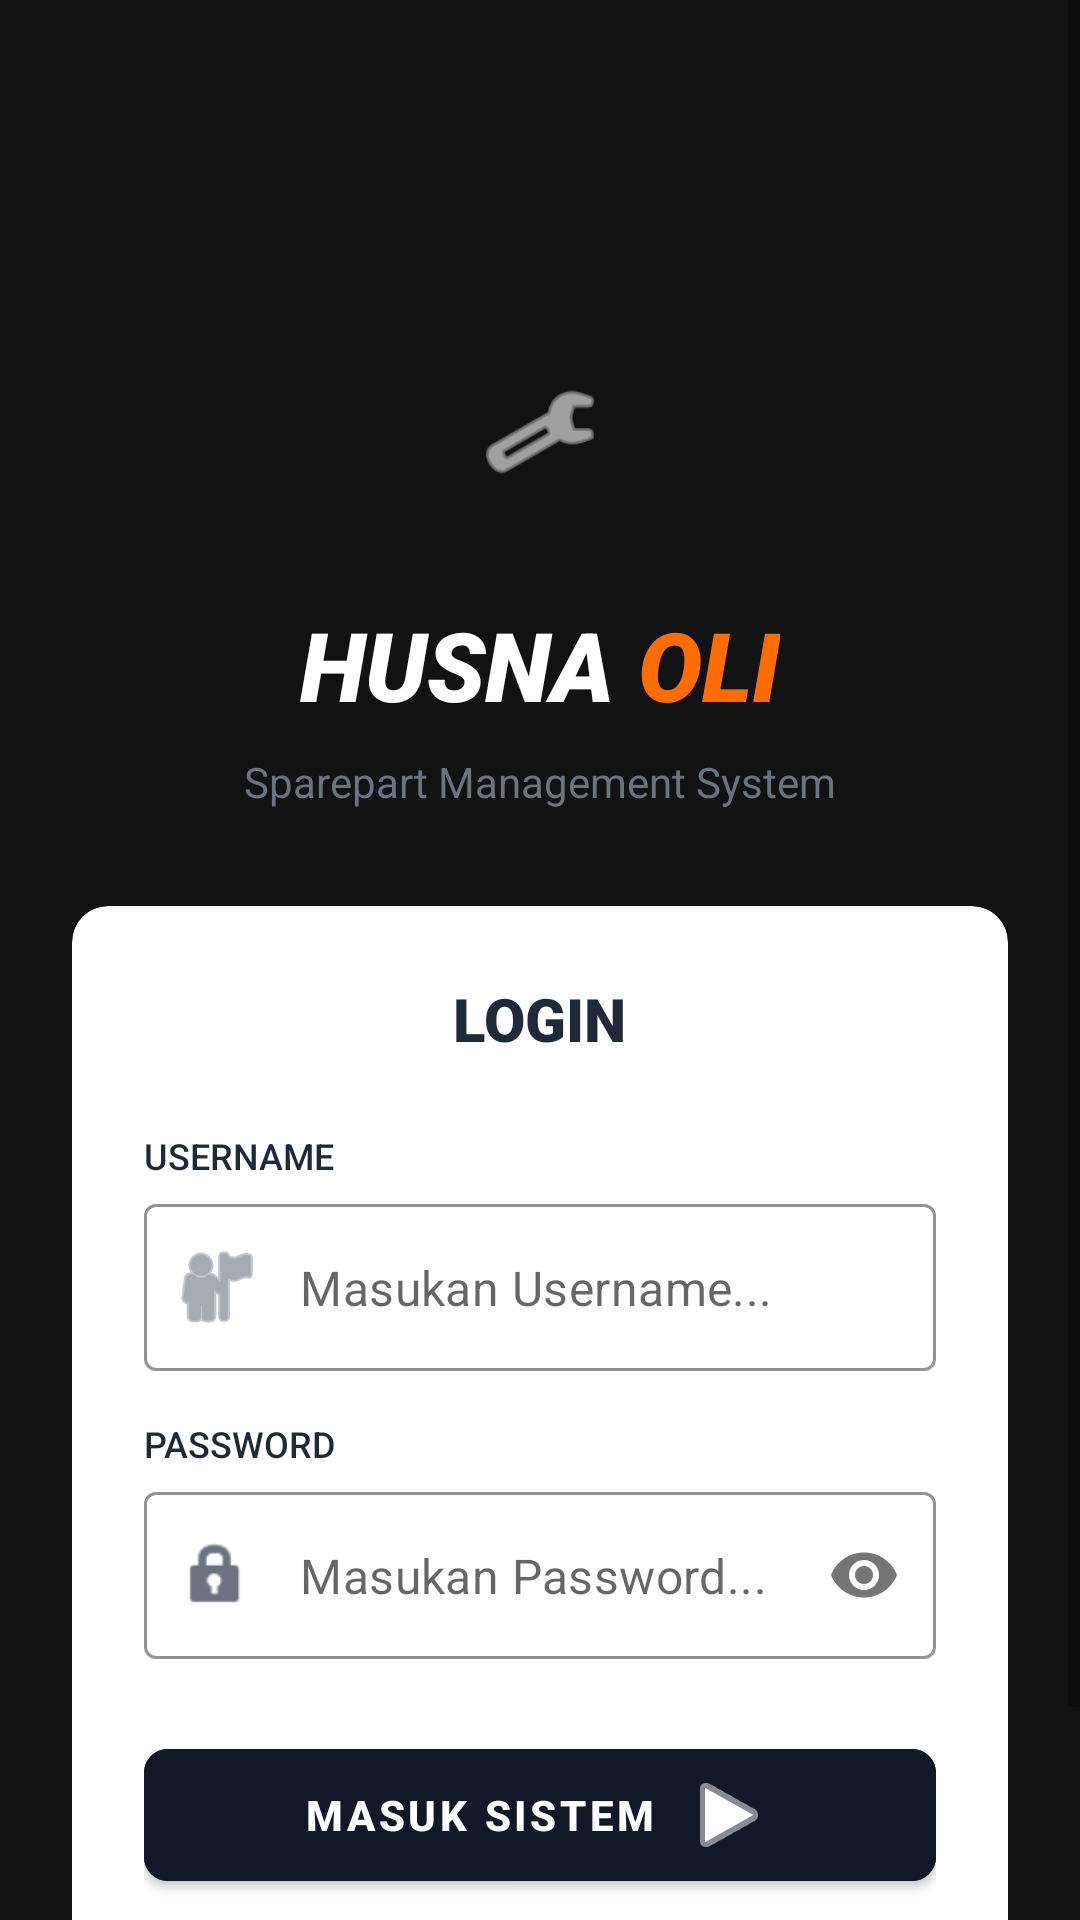

Screen size 1080 x 1920. Icon name, then its box in pixels as (x1, y1, x2, y2):
manage: (486, 391, 594, 473)
